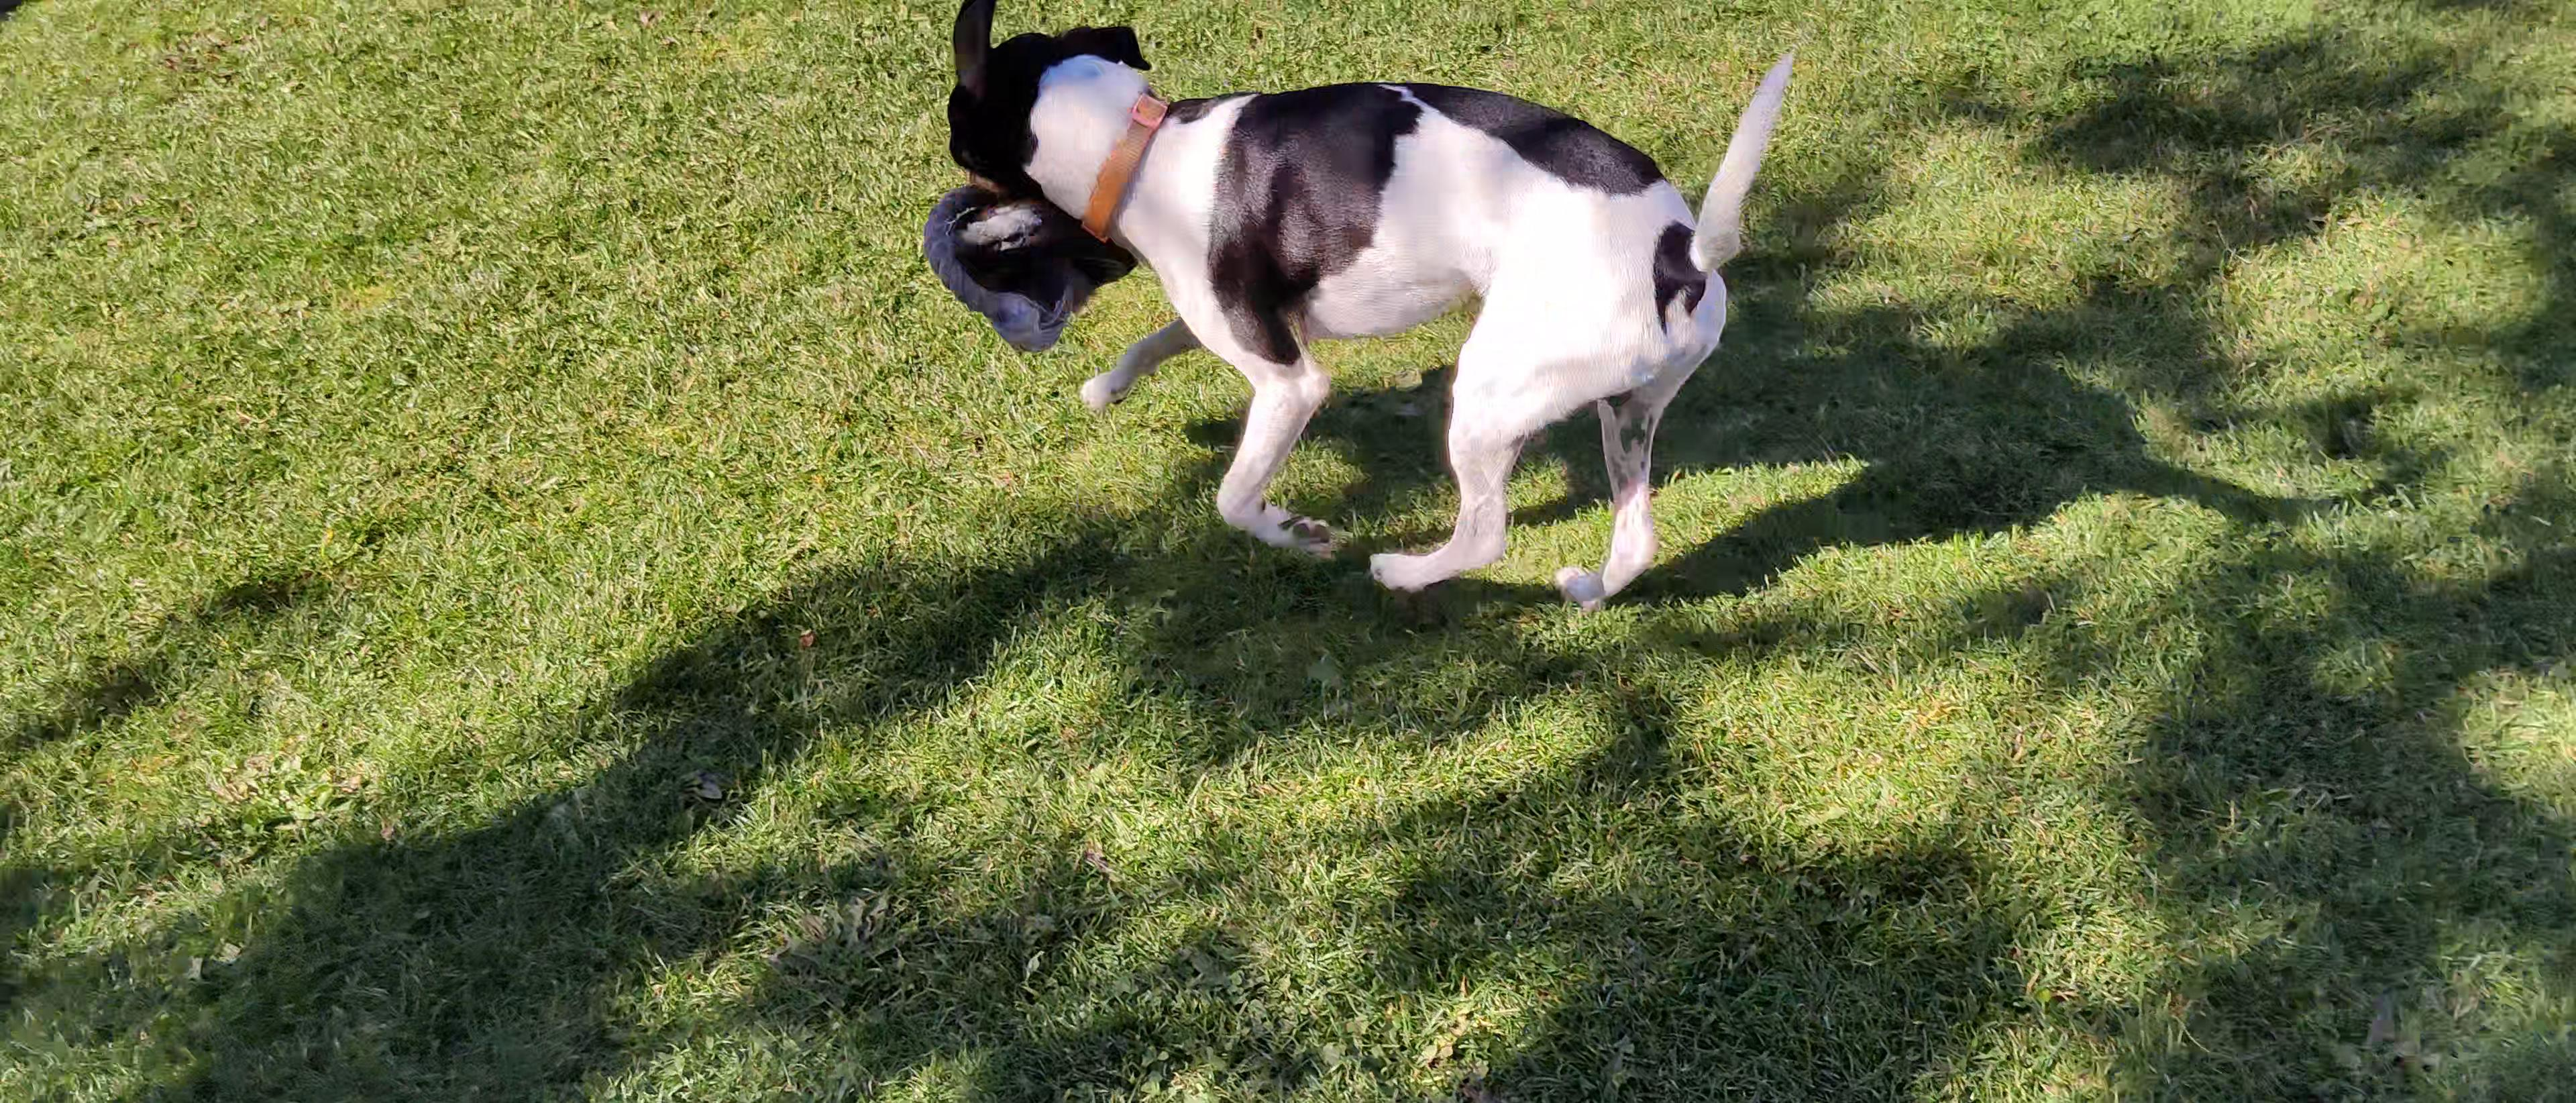Dog: (935, 0, 1825, 641)
